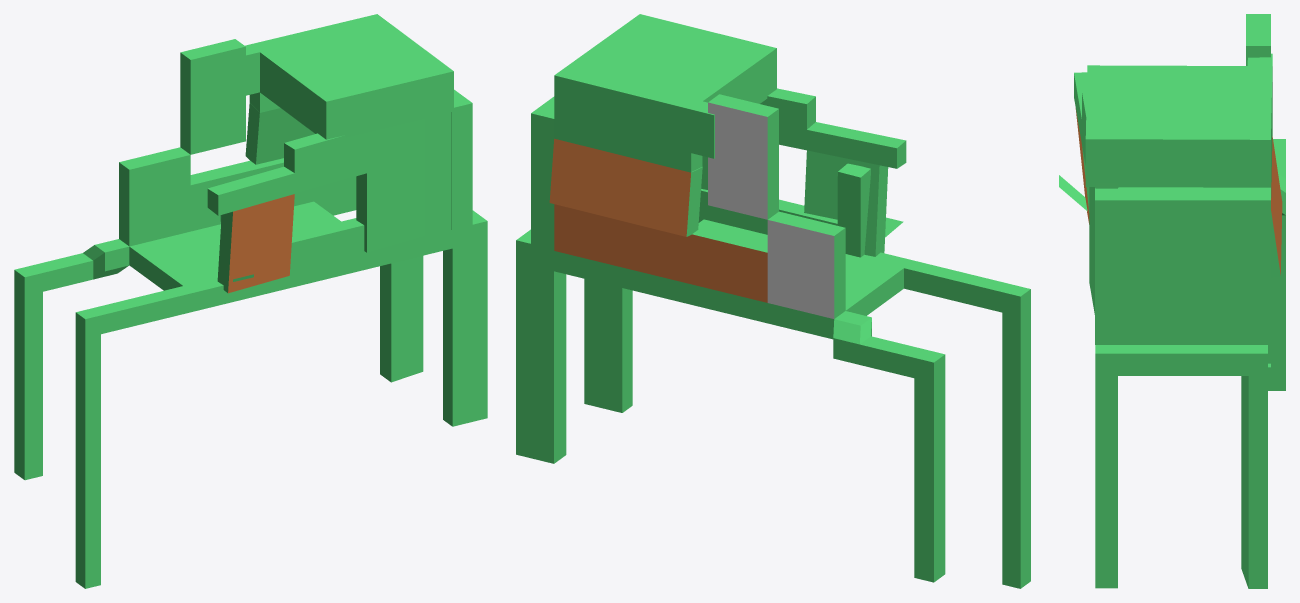
The model's file is jungleHouse.fbx.
3 renders of one model, left to right at view 1: azimuth 30°, elevation 25°; view 2: azimuth 150°, elevation 25°; view 3: azimuth 270°, elevation 25°, orthographic. The views are drawn at different scales.
Visible parts, largest first — view 1: Cube; view 2: Cube; view 3: Cube.
Boxes of the visible parts, <box> form: Cube: <box>14,14,487,588</box>; Cube: <box>516,14,1030,588</box>; Cube: <box>1059,14,1285,588</box>.
Size of what is drawn, in the model's own units: 5463 by 5726 by 2243.
